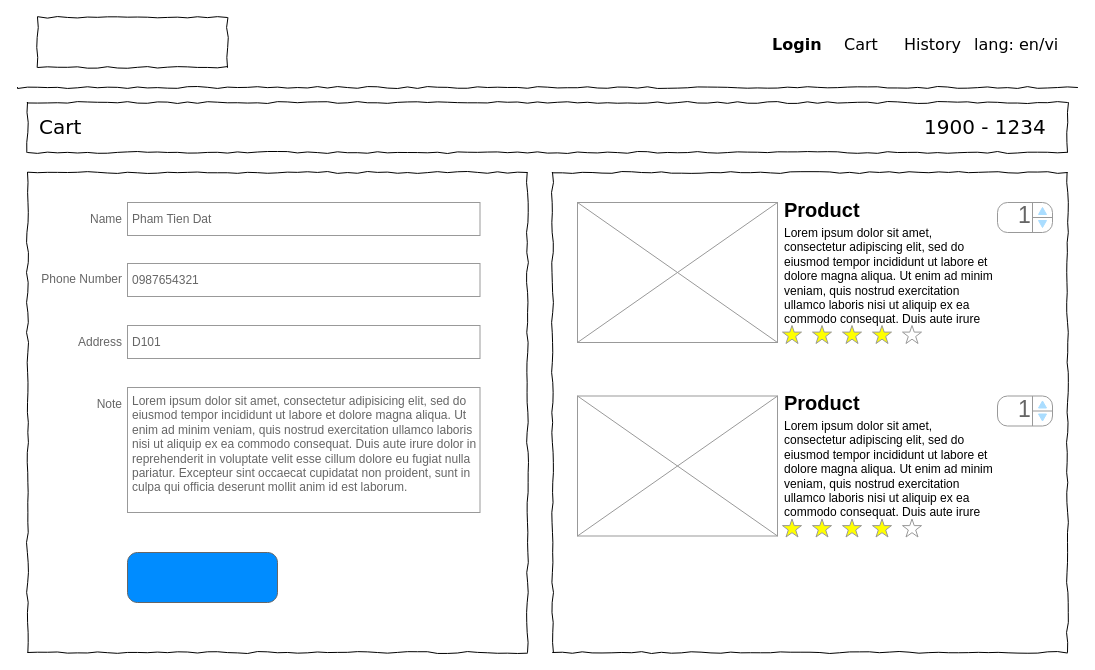
The diagram is 1095 pixels wide and 670 high, and some of its shapes have lost their labels. The box of each missing label's shape, as (x1, y1, x2, y2) in pixels:
LOGO: (36, 16, 228, 68)
ORDER: (126, 552, 278, 602)
